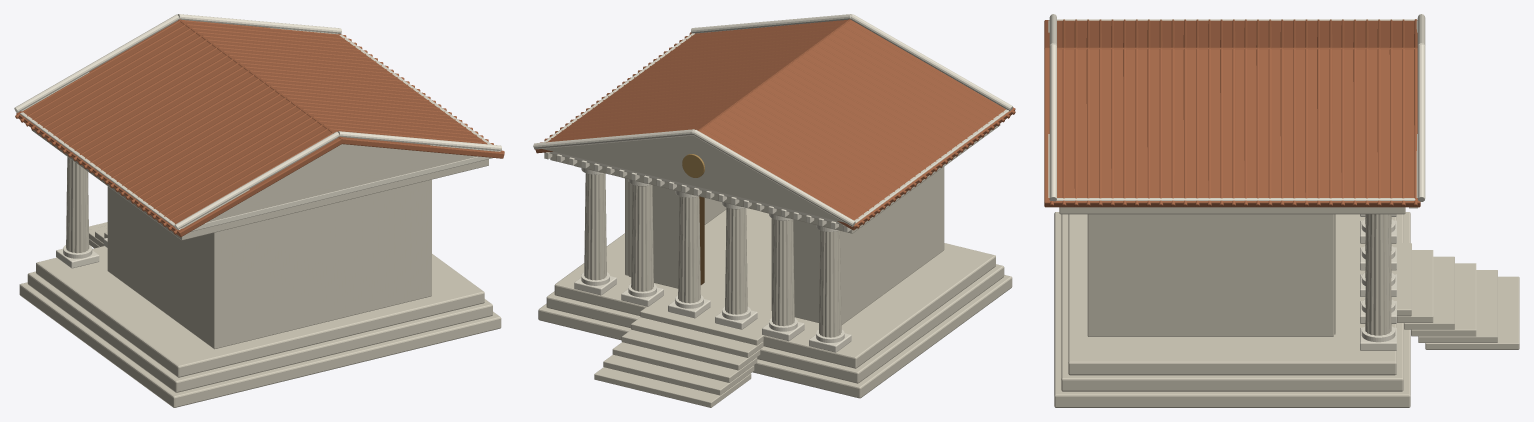
The model's file is RomanTempleRestoration.glb.
3 renders of one model, left to right at view 1: azimuth 30°, elevation 25°; view 2: azimuth 150°, elevation 25°; view 3: azimuth 270°, elevation 25°, orthographic. The views are drawn at different scales.
Parts seen in each view (by area): view 1: Pitched tiled temple roof, Cella rear wall, Pitched tiled temple roof.001, Temple stepped podium.002, Cella side wall, Temple stepped podium, Temple stepped podium.001, Real triangular pediment, Temple projecting cornice, Temple architrave, Fluted limestone column, Pediment raking cornice.002 (+3 smaller); view 2: Pitched tiled temple roof, Temple stepped podium.002, Pitched tiled temple roof.001, Cella side wall, Real triangular pediment.001, Temple stepped podium, Temple stepped podium.001, Cella doorway wing.001, Cella doorway wing, Fluted limestone column.001, Fluted limestone column.003, Fluted limestone column.002 (+18 smaller); view 3: Pitched tiled temple roof.001, Cella side wall.001, Temple stepped podium.002, Pitched tiled temple roof, Temple stepped podium, Temple stepped podium.001, Fluted limestone column.005, Temple architrave, Approach stair, Approach stair.001, Approach stair.002, Approach stair.003 (+37 smaller).
Boxes of the visible parts, x1,y1,x2,y2 form: Pitched tiled temple roof: [16, 19, 343, 237]; Cella rear wall: [209, 179, 431, 349]; Pitched tiled temple roof.001: [178, 19, 504, 158]; Temple stepped podium.002: [36, 246, 484, 377]; Cella side wall: [107, 186, 211, 347]; Temple stepped podium: [19, 282, 501, 407]; Temple stepped podium.001: [27, 271, 492, 392]; Real triangular pediment: [181, 144, 498, 228]; Temple projecting cornice: [20, 34, 500, 231]; Temple architrave: [32, 130, 488, 240]; Fluted limestone column: [66, 157, 89, 253]; Pediment raking cornice.002: [14, 14, 179, 112]; Pitched tiled temple roof: [698, 19, 1015, 230]; Temple stepped podium.002: [554, 208, 995, 368]; Pitched tiled temple roof.001: [535, 19, 851, 153]; Cella side wall: [840, 168, 942, 324]; Real triangular pediment.001: [543, 135, 844, 222]; Temple stepped podium: [538, 275, 1012, 398]; Temple stepped podium.001: [546, 264, 1004, 383]; Cella doorway wing.001: [628, 182, 679, 288]; Cella doorway wing: [771, 218, 820, 322]; Fluted limestone column.001: [772, 219, 794, 326]; Fluted limestone column.003: [678, 196, 700, 303]; Fluted limestone column.002: [725, 207, 747, 314]; Pitched tiled temple roof.001: [1044, 47, 1420, 207]; Cella side wall.001: [1092, 214, 1333, 336]; Temple stepped podium.002: [1068, 214, 1396, 375]; Pitched tiled temple roof: [1044, 20, 1417, 49]; Temple stepped podium: [1054, 212, 1410, 407]; Temple stepped podium.001: [1061, 214, 1403, 391]; Fluted limestone column.005: [1365, 214, 1391, 335]; Temple architrave: [1059, 207, 1405, 214]; Approach stair: [1425, 276, 1519, 349]; Approach stair.001: [1418, 270, 1497, 342]; Approach stair.002: [1411, 263, 1476, 336]; Approach stair.003: [1404, 256, 1454, 329].
Size of the model in its own units: 8.86 by 6.09 by 9.6.
